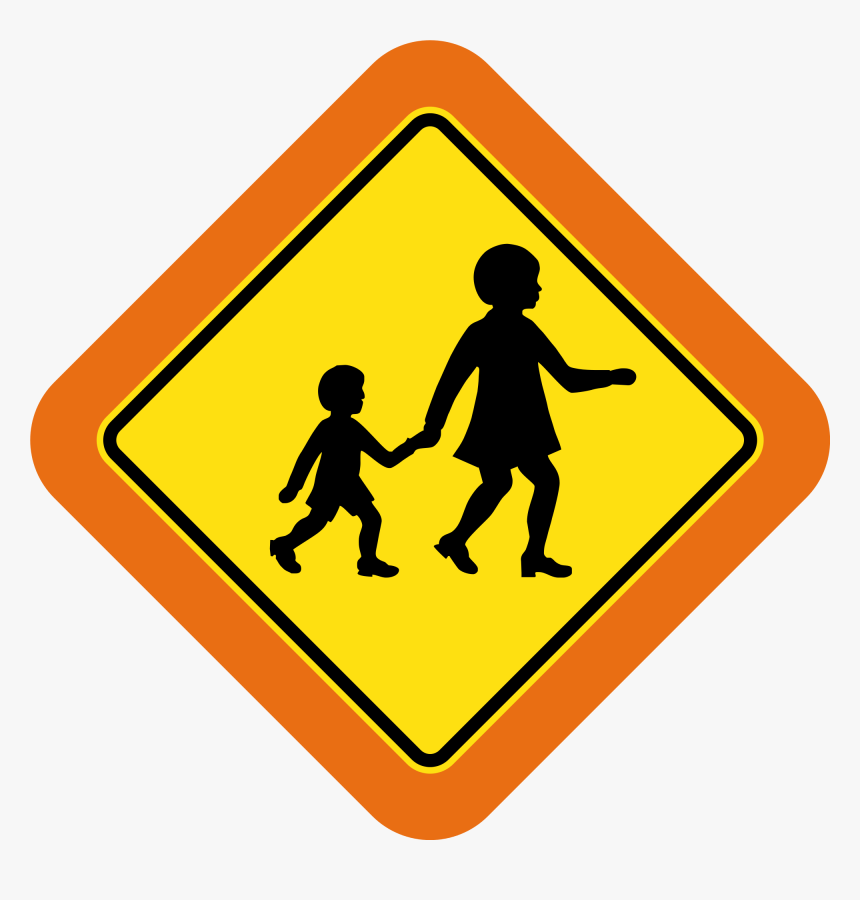pedestrian: (80, 129, 782, 676)
